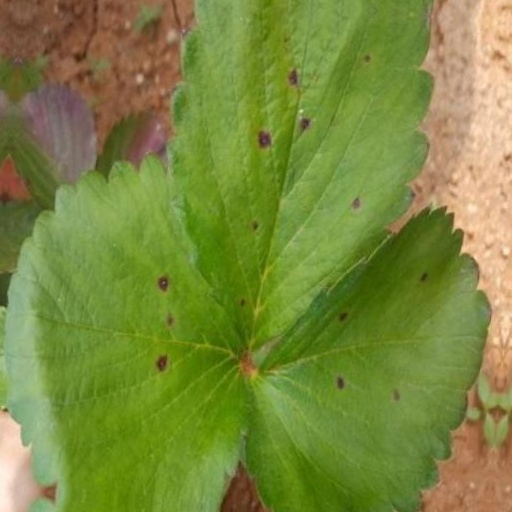Leaf Spot: (154, 0, 420, 362), (11, 163, 263, 511), (261, 185, 496, 511)
